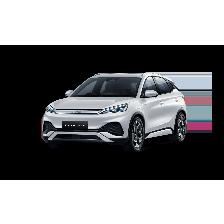EV: (41, 72, 189, 155)
